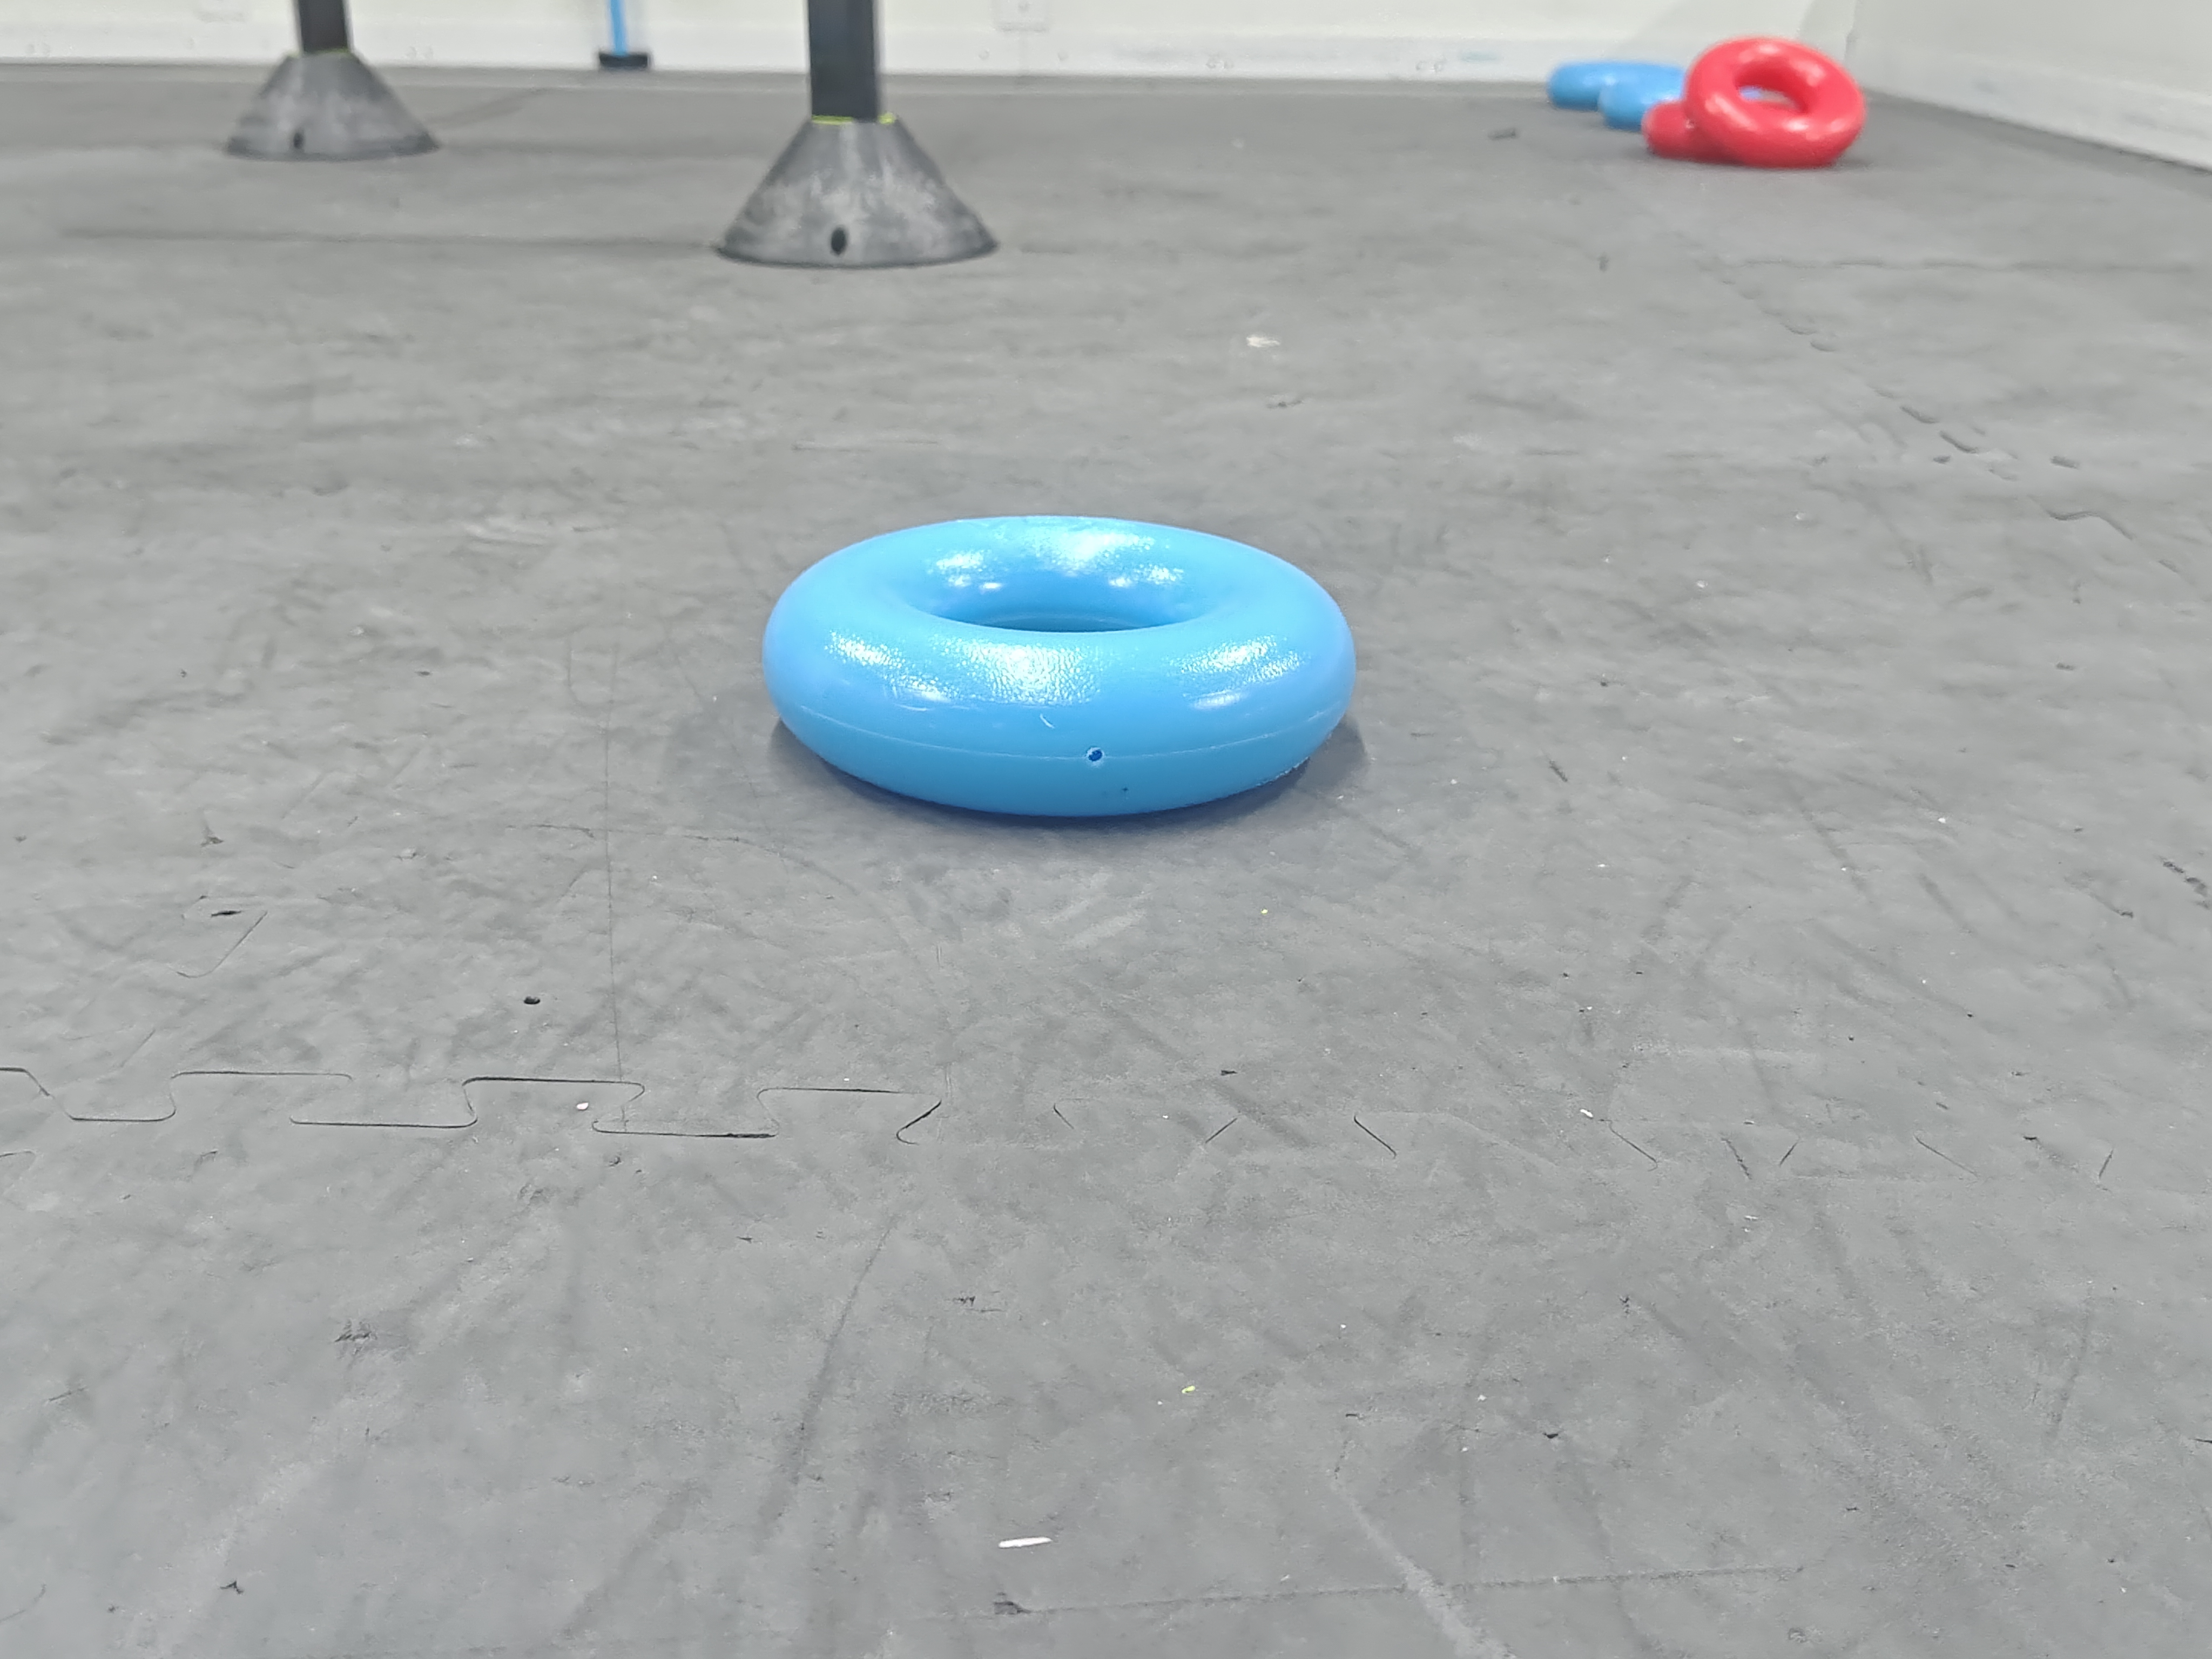blue: (761, 516, 1369, 805), (1543, 58, 1714, 129)
red: (1691, 35, 1871, 167)
